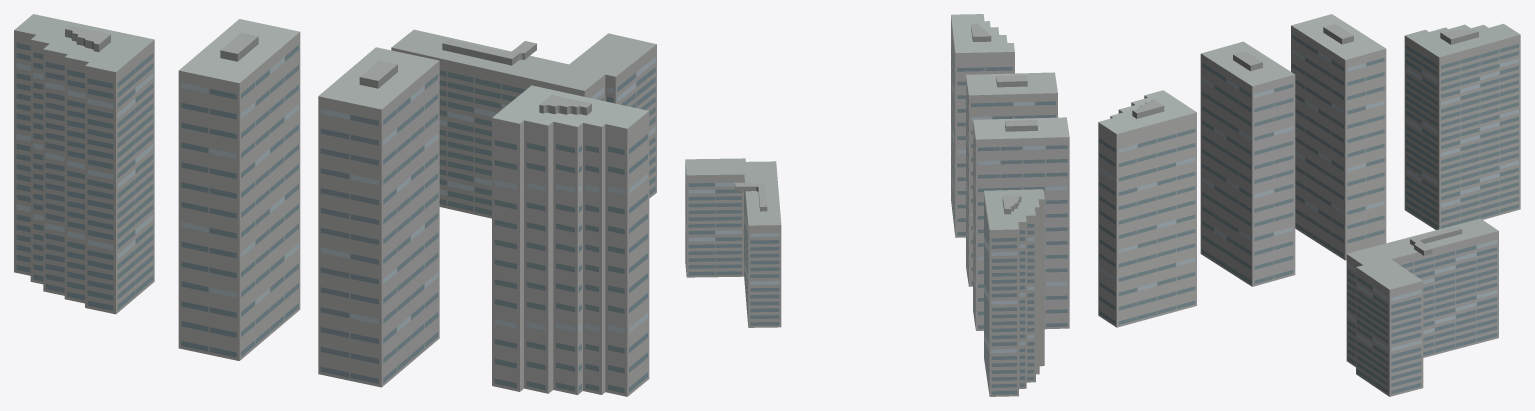
The model's file is apt-a10023467.glb.
3 views of the same model, side by side, from view 1: azimuth 30°, elevation 25°; view 2: azimuth 150°, elevation 25°; view 3: azimuth 270°, elevation 25° (orthographic). The views are drawn at different scales.
Parts seen in each view (by area): view 1: apt-a10023467; view 2: apt-a10023467; view 3: apt-a10023467.
Part boxes in pixels (<box>): apt-a10023467: <box>14,14,656,396</box>; apt-a10023467: <box>685,14,1069,396</box>; apt-a10023467: <box>1098,14,1520,396</box>.
Bounding box in the file's own units: 182 × 88 × 163.
